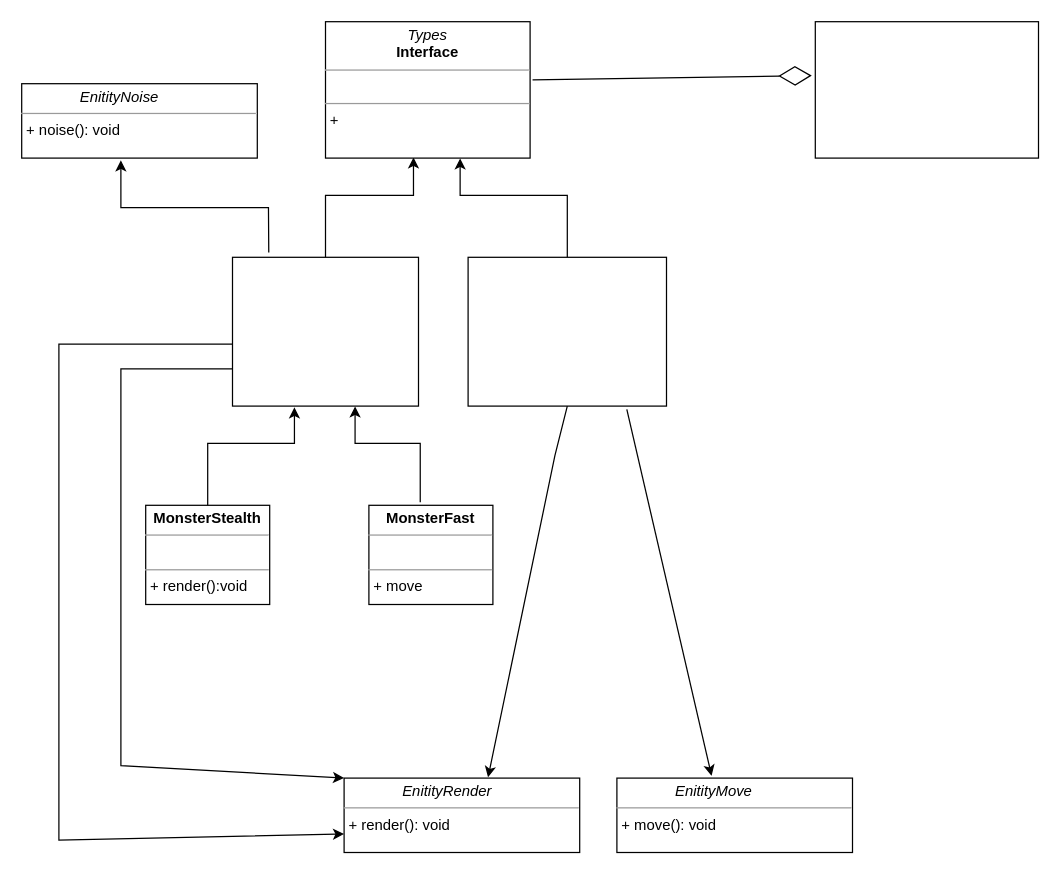
This 1060x874 diagram has some shape labels left out. Here are the shapes that lost their labels. From the top down, the box of each, then its label:
(814, 20, 1038, 158): Entity class + move() : void + render(): void
(231, 256, 418, 406): Monster + move() : void + render(): void
(467, 256, 666, 406): Player + move(): void + render(): void
